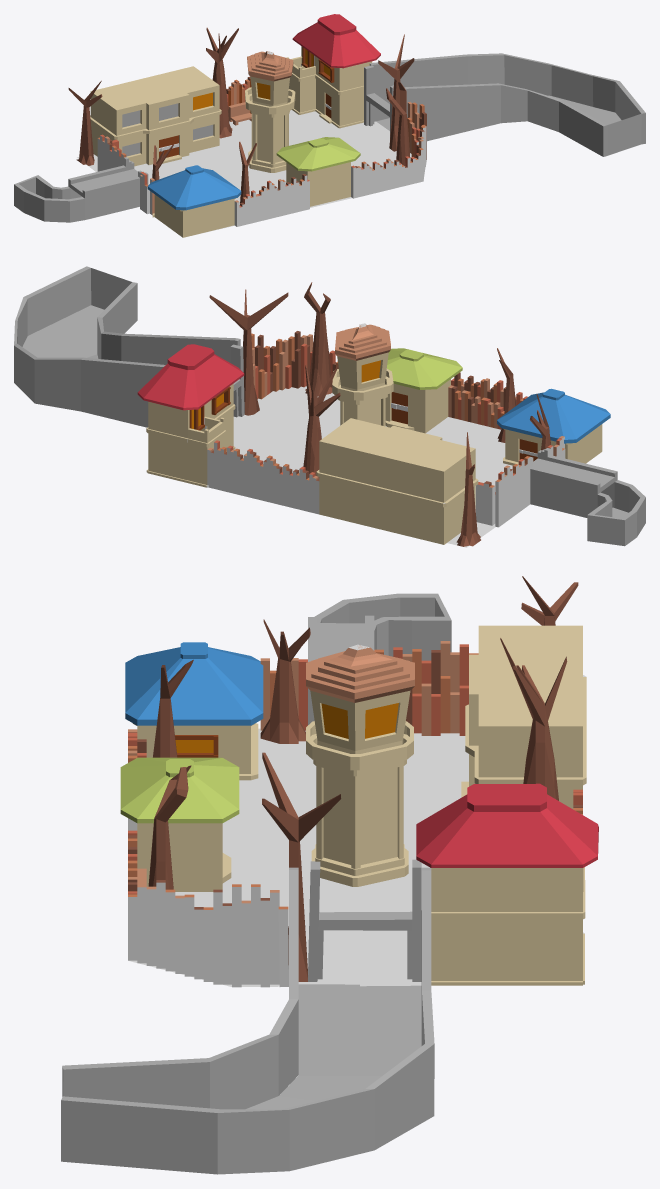
Rendered from MapBase.fbx.
3 views of the same model, one above another, from view 1: azimuth 30°, elevation 25°; view 2: azimuth 150°, elevation 25°; view 3: azimuth 270°, elevation 25° (orthographic). The views are drawn at different scales.
Parts seen in each view (by area): view 1: Grid; view 2: Grid; view 3: Grid.
Boxes of the visible parts, x1,y1,x2,y2 form: Grid: (14, 14, 645, 237); Grid: (14, 266, 645, 547); Grid: (61, 576, 598, 1174).
Bounding box in the file's own units: 822 × 162 × 347.
